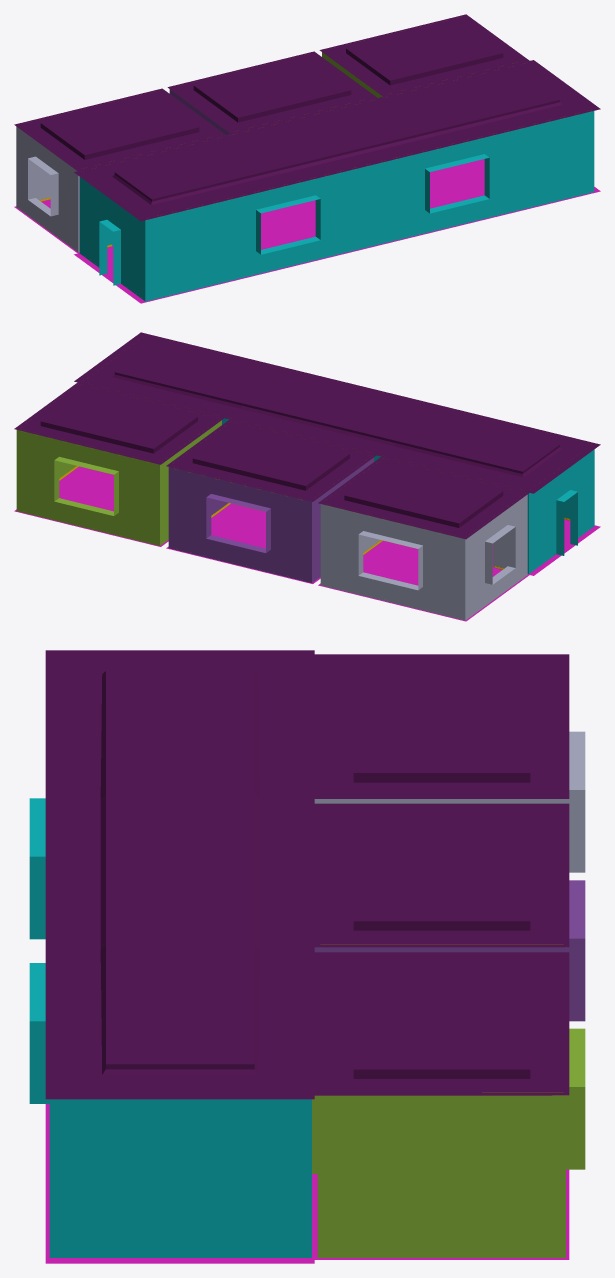
The model's file is Room_Game_SP4.FBX.
The picture shows the model from 3 angles, top to bottom: view 1: azimuth 30°, elevation 25°; view 2: azimuth 150°, elevation 25°; view 3: azimuth 270°, elevation 25°; orthographic projection. The views are drawn at different scales.
Parts seen in each view (by area): view 1: Ceiling, Room_Unwrapped, Floor_Unwrapped; view 2: Ceiling, Room_Unwrapped, Floor_Unwrapped; view 3: Ceiling, Room_Unwrapped, Floor_Unwrapped.
Boxes of the visible parts, x1,y1,x2,y2 form: Ceiling: (14,14,600,221); Room_Unwrapped: (16,52,594,301); Floor_Unwrapped: (14,159,600,303); Ceiling: (14,332,600,539); Room_Unwrapped: (16,418,594,620); Floor_Unwrapped: (14,466,600,621); Ceiling: (45,650,569,1099); Room_Unwrapped: (29,731,585,1257); Floor_Unwrapped: (45,1104,569,1263).
Size of the model in its own units: 2060 by 370 by 1072.
